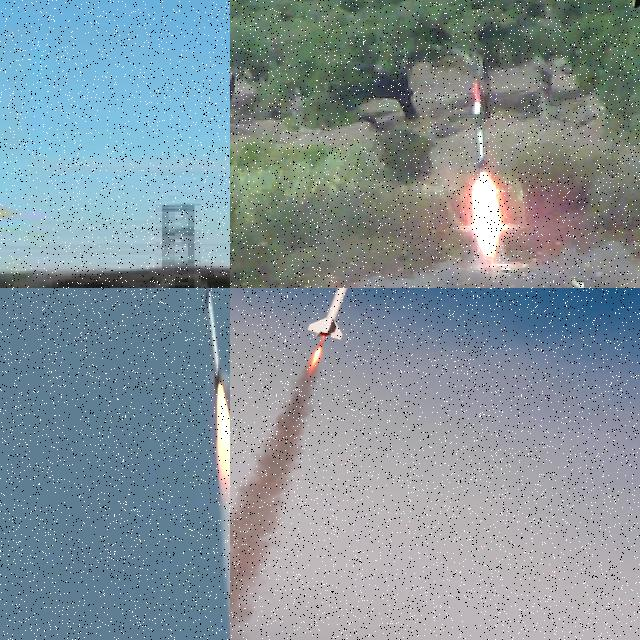Rocket: (307, 288, 375, 340), (204, 288, 230, 397), (472, 81, 487, 170)
